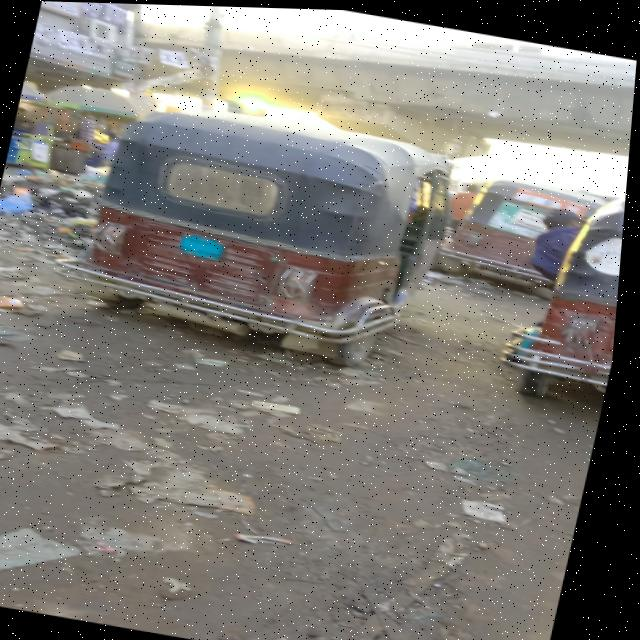cng: (90, 68, 524, 426)
